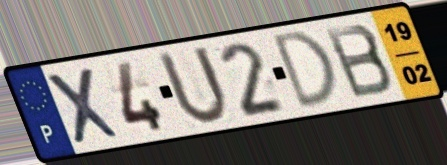2: (219, 40, 290, 121)
4: (116, 58, 165, 134)
B: (321, 21, 397, 102)
D: (270, 28, 343, 113)
U: (153, 44, 233, 129)
X: (41, 64, 125, 148)
